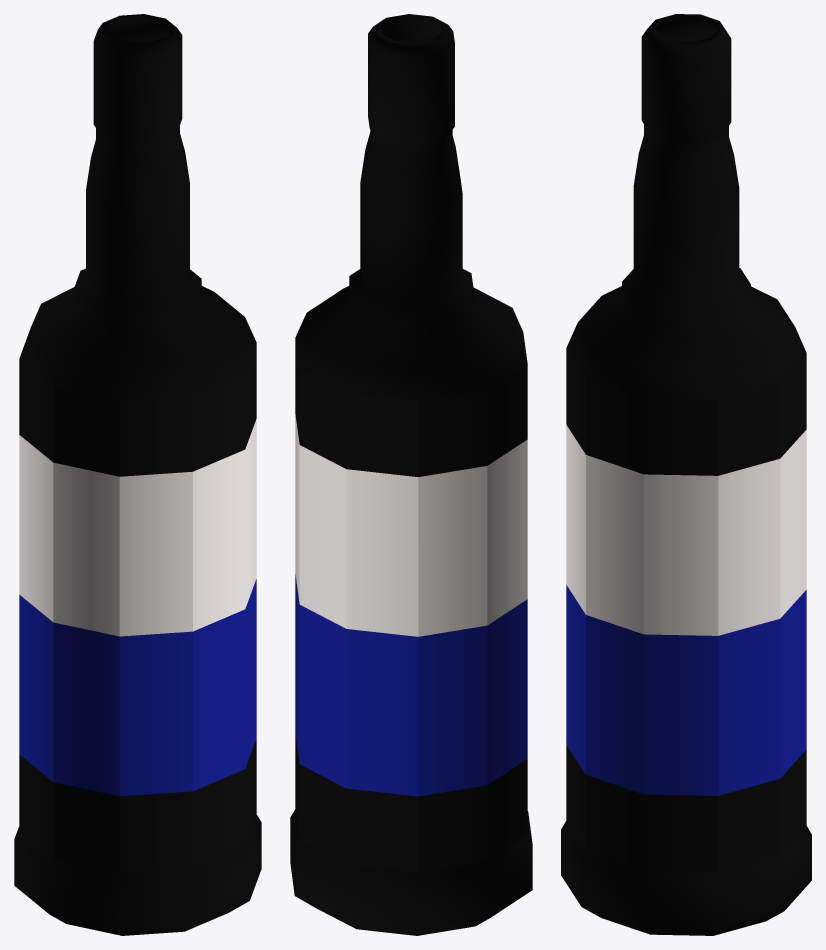
File: Wine 9.fbx
3 views of the same model, side by side, from view 1: azimuth 30°, elevation 25°; view 2: azimuth 150°, elevation 25°; view 3: azimuth 270°, elevation 25° (orthographic).
Parts seen in each view (by area): view 1: Node 0; view 2: Node 0; view 3: Node 0.
Part boxes in pixels (<box>): Node 0: <box>14,14,261,935</box>; Node 0: <box>290,14,532,935</box>; Node 0: <box>561,14,811,935</box>.
Bounding box in the file's own units: 0.0705 × 0.2684 × 0.0681.
